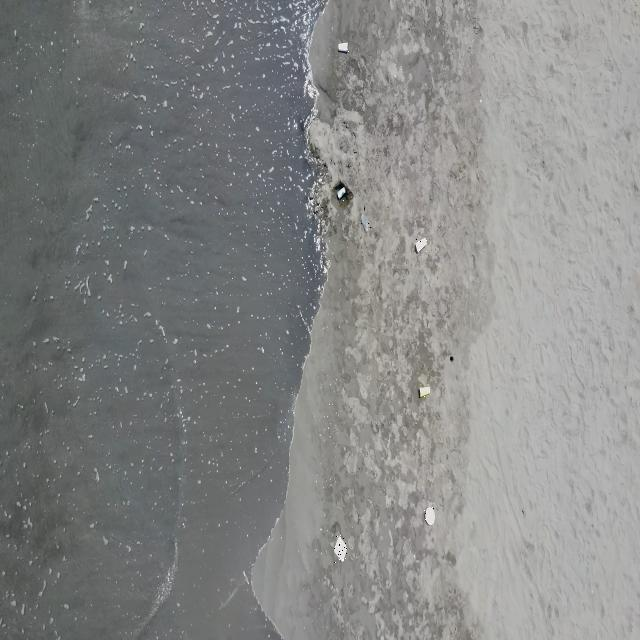take-away-containers: (334, 535, 348, 563), (424, 508, 436, 528)
takeaway-cup: (415, 236, 427, 254), (362, 214, 372, 232), (338, 41, 349, 55), (337, 186, 346, 202), (419, 386, 431, 398)
